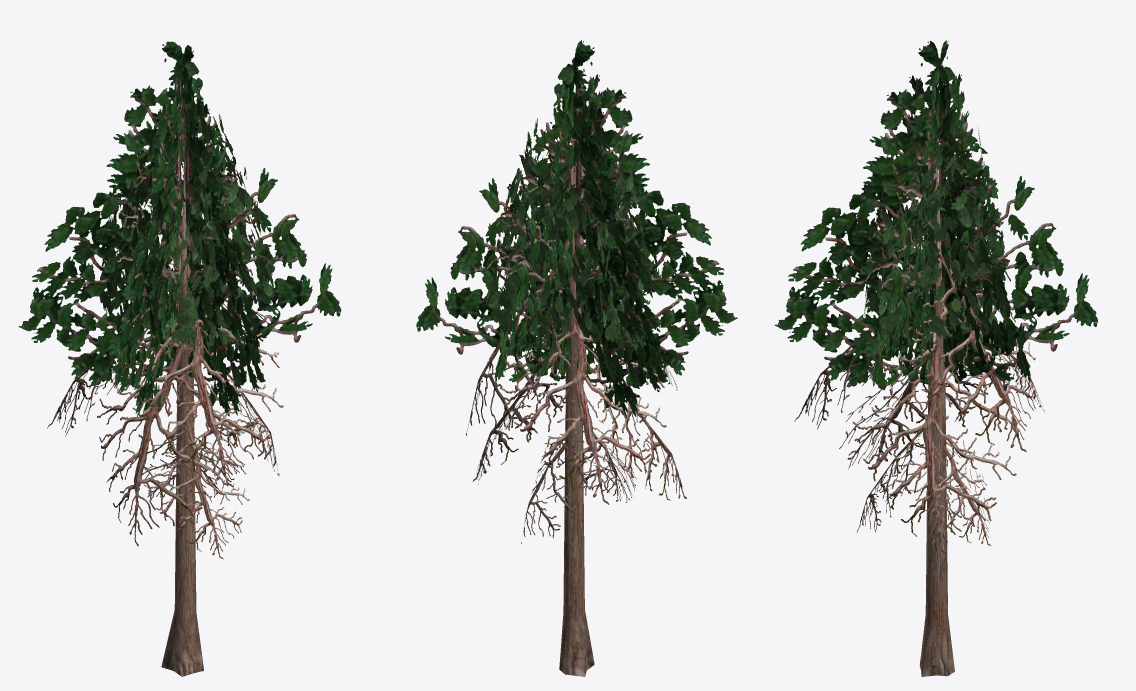
File: Sharp_Cedar09.gltf
The picture shows the model from 3 angles, left to right: view 1: azimuth 30°, elevation 25°; view 2: azimuth 150°, elevation 25°; view 3: azimuth 270°, elevation 25°; orthographic projection.
Parts seen in each view (by area): view 1: Dfol, Efol, Trunk, Cfol, Bfol, Afol, Ffol; view 2: Dfol, Efol, Trunk, Cfol, Bfol, Afol, Ffol, CCfol; view 3: Dfol, Efol, Bfol, Trunk, CCfol, Afol, Ffol, Cfol.
Boxes of the visible parts, x1,y1,x2,y2 form: Dfol: (18,41,341,417); Efol: (99,109,275,346); Trunk: (161,174,203,676); Cfol: (47,284,283,487); Bfol: (97,343,279,546); Afol: (132,423,249,559); Ffol: (117,97,272,311); Dfol: (416,40,737,417); Efol: (485,118,662,350); Trunk: (559,165,594,676); Cfol: (499,294,677,504); Bfol: (473,356,686,500); Afol: (521,422,636,543); Ffol: (486,109,640,308); CCfol: (466,250,573,435); Dfol: (774,40,1097,395); Efol: (864,119,1007,353); Bfol: (839,347,1020,554); Trunk: (919,149,954,676); CCfol: (900,253,1035,451); Afol: (856,416,990,545); Ffol: (865,111,1010,306); Cfol: (794,287,1044,429).
Size of the model in its own units: 8.23 by 18.63 by 9.08.
Materials: 2 (2 with a texture image).
